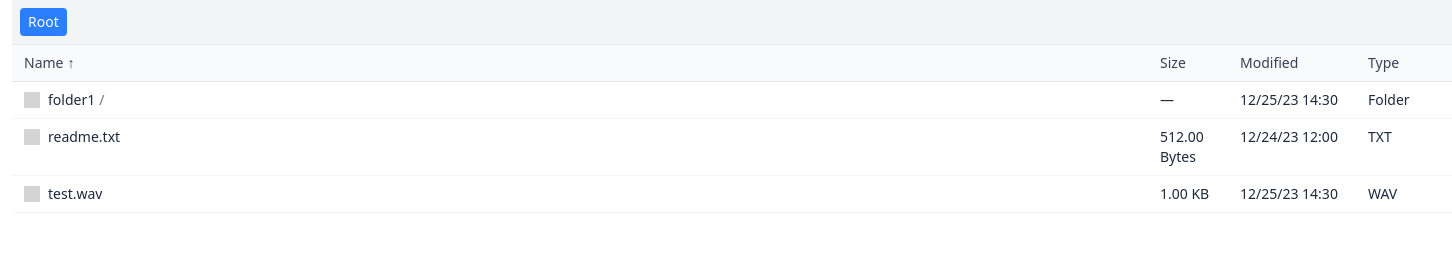
Test case: FileListView › shows context menu on right click
The image size is (1452, 253).
Right-click the text "test.wav": [63, 194] box [24,184,102,203]
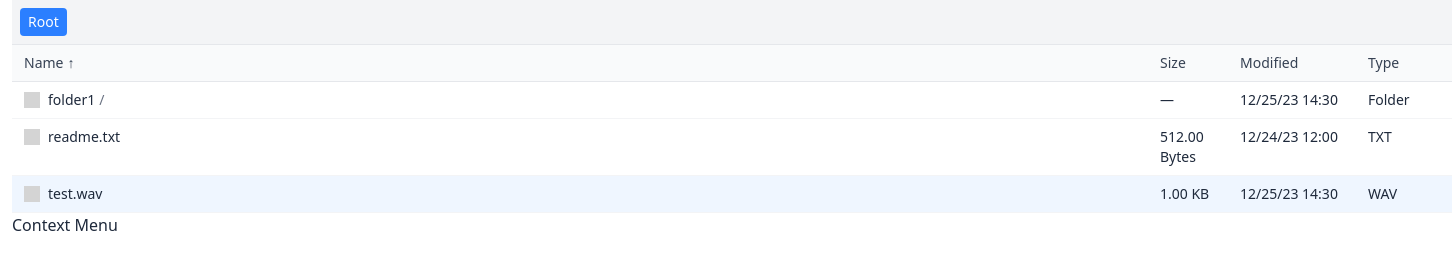
Check: the text "Context Menu" is shown, box [12,214,118,236]
